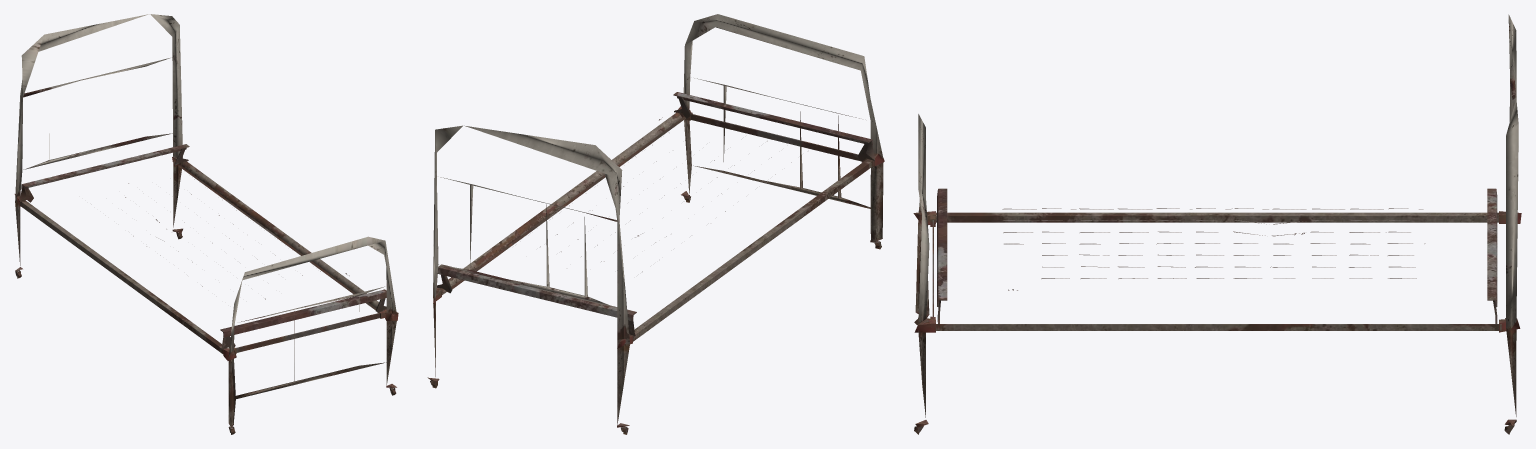
File: old_bed_frame.glb
The picture shows the model from 3 angles, left to right: view 1: azimuth 30°, elevation 25°; view 2: azimuth 150°, elevation 25°; view 3: azimuth 270°, elevation 25°; orthographic projection. The views are drawn at different scales.
Parts seen in each view (by area): view 1: old_bed_frame; view 2: old_bed_frame; view 3: old_bed_frame.
Boxes of the visible parts, x1,y1,x2,y2 form: old_bed_frame: (14, 14, 398, 434); old_bed_frame: (427, 14, 884, 434); old_bed_frame: (913, 14, 1521, 434).
Size of the model in its own units: 0.8966 by 1.19 by 2.
1 material, 1 textured.
